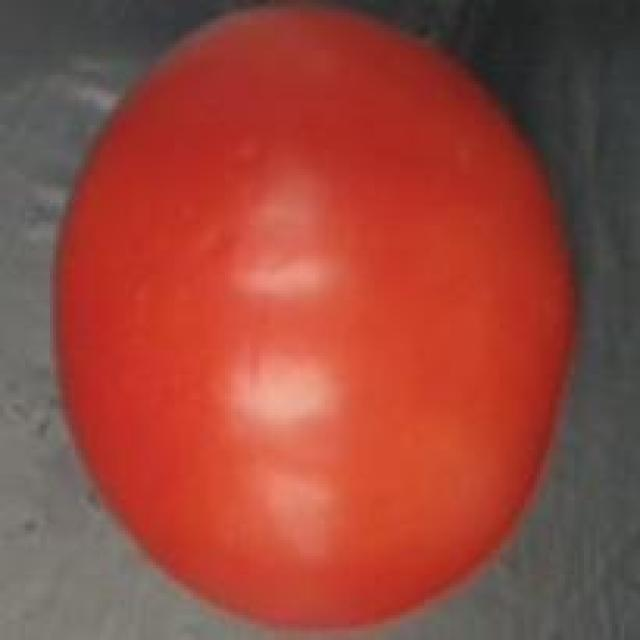ripe tomato: (47, 0, 587, 640)
